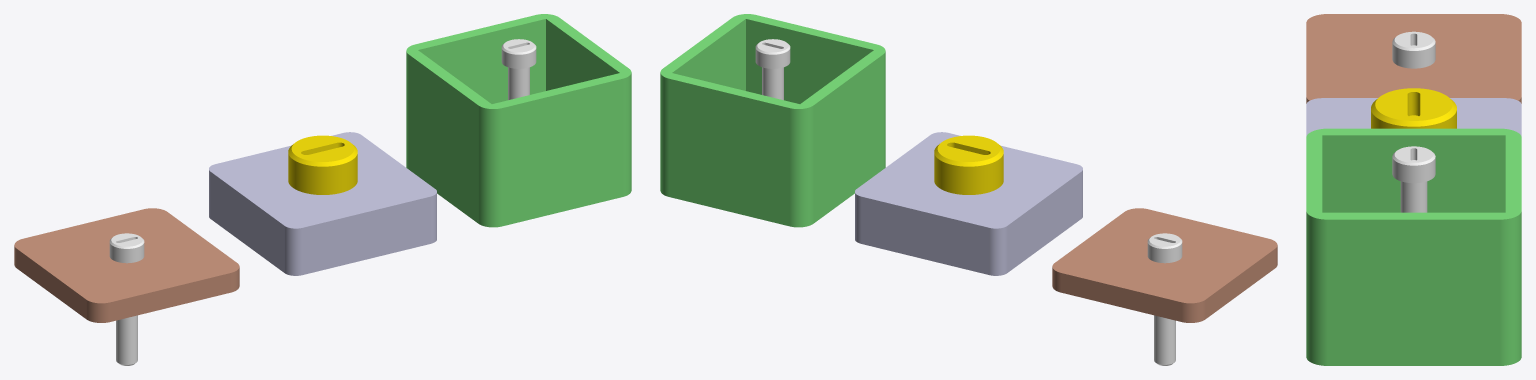
File: kompleks_montaj_orta_vida.gltf
3 renders of one model, left to right at view 1: azimuth 30°, elevation 25°; view 2: azimuth 150°, elevation 25°; view 3: azimuth 270°, elevation 25°, orthographic. The views are drawn at different scales.
Visible parts, largest first — view 1: sag_yesil_part, orta_taban_part, sol_kahverengi_part, sari_vida_orta_part, sol_vida_part, sag_vida_part; view 2: sag_yesil_part, orta_taban_part, sol_kahverengi_part, sari_vida_orta_part, sol_vida_part, sag_vida_part; view 3: sag_yesil_part, sol_kahverengi_part, orta_taban_part, sari_vida_orta_part, sag_vida_part, sol_vida_part.
Part boxes in pixels (x1=…): sag_yesil_part: x1=406, y1=14, x2=631, y2=227; orta_taban_part: x1=209, y1=132, x2=436, y2=275; sol_kahverengi_part: x1=14, y1=208, x2=239, y2=322; sari_vida_orta_part: x1=288, y1=135, x2=357, y2=194; sol_vida_part: x1=109, y1=233, x2=144, y2=365; sag_vida_part: x1=501, y1=39, x2=536, y2=100; sag_yesil_part: x1=660, y1=14, x2=885, y2=227; orta_taban_part: x1=855, y1=132, x2=1082, y2=275; sol_kahverengi_part: x1=1052, y1=208, x2=1277, y2=322; sari_vida_orta_part: x1=934, y1=135, x2=1003, y2=194; sol_vida_part: x1=1147, y1=233, x2=1182, y2=365; sag_vida_part: x1=755, y1=39, x2=790, y2=100; sag_yesil_part: x1=1306, y1=128, x2=1521, y2=365; sol_kahverengi_part: x1=1306, y1=14, x2=1521, y2=103; orta_taban_part: x1=1306, y1=98, x2=1521, y2=136; sari_vida_orta_part: x1=1371, y1=88, x2=1456, y2=128; sag_vida_part: x1=1392, y1=146, x2=1435, y2=212; sol_vida_part: x1=1392, y1=31, x2=1435, y2=68.
Size of the model in its own units: 144 by 56 by 40.
